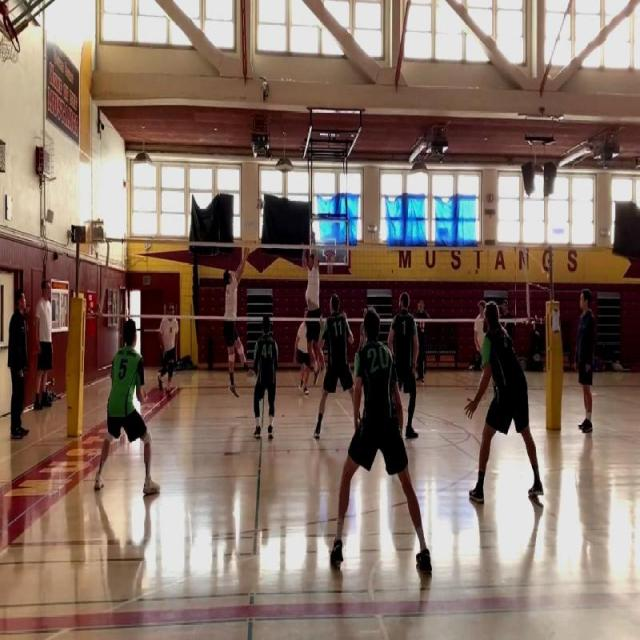volleyball: (256, 199, 263, 210)
